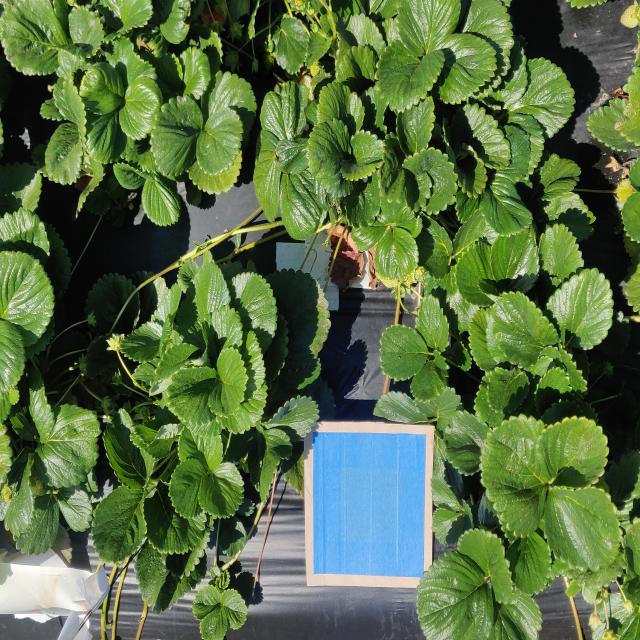ripe: (619, 4, 639, 30), (258, 52, 274, 80)
